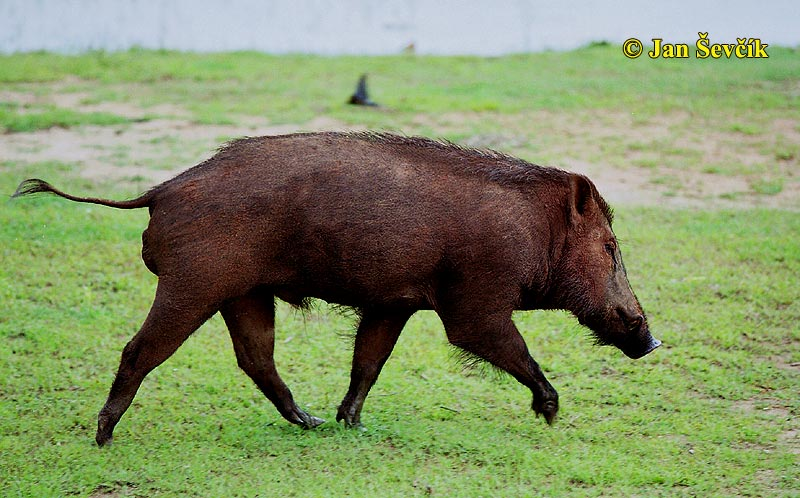wild boar: (15, 127, 687, 448)
